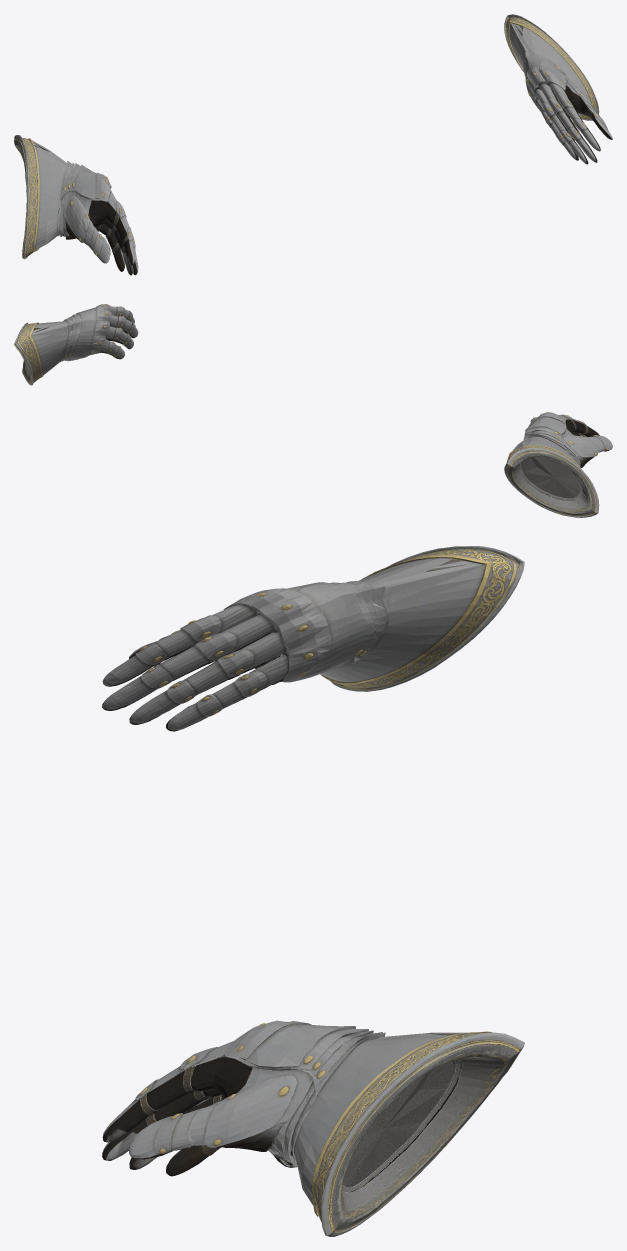
File: ewm_gauntlets.glb
The picture shows the model from 3 angles, top to bottom: view 1: azimuth 30°, elevation 25°; view 2: azimuth 150°, elevation 25°; view 3: azimuth 270°, elevation 25°; orthographic projection. The views are drawn at different scales.
Visible parts, largest first — view 1: ewm_gauntlets; view 2: ewm_gauntlets; view 3: ewm_gauntlets.
Part boxes in pixels (<box>): ewm_gauntlets: <box>14,14,612,275</box>; ewm_gauntlets: <box>14,304,612,517</box>; ewm_gauntlets: <box>102,546,524,1236</box>.
Size of the model in its own units: 1.23 by 0.1746 by 0.3904.
1 material, 1 textured.
